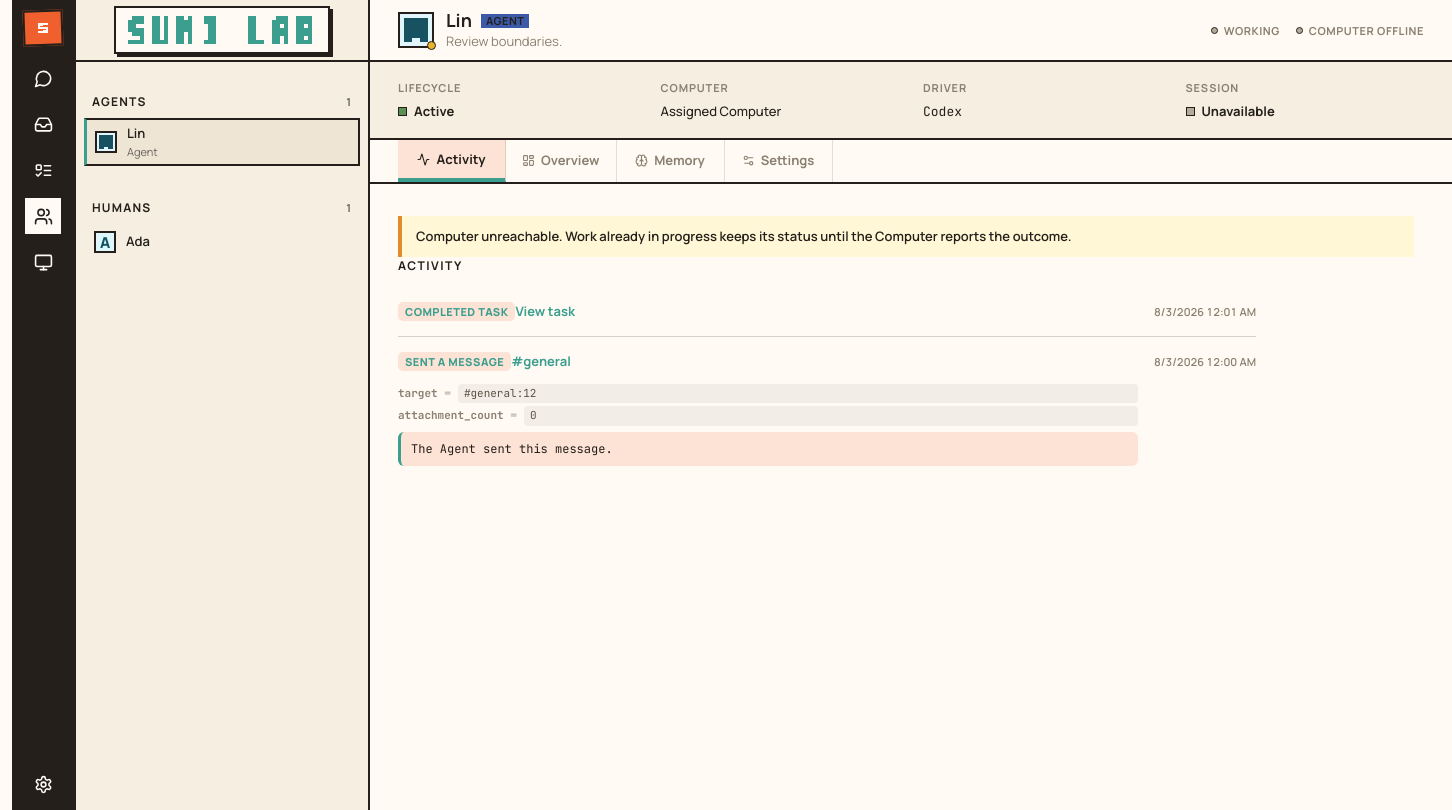
Test: Agent detail › shows Activity in its default tab with command arguments
Expected: the heading "Lin" is shown, left=446, top=10, right=472, bottom=31
Expected: the heading "Activity" is shown, left=398, top=256, right=463, bottom=274
Click the tab "Overview": (561, 161) left=506, top=140, right=616, bottom=182
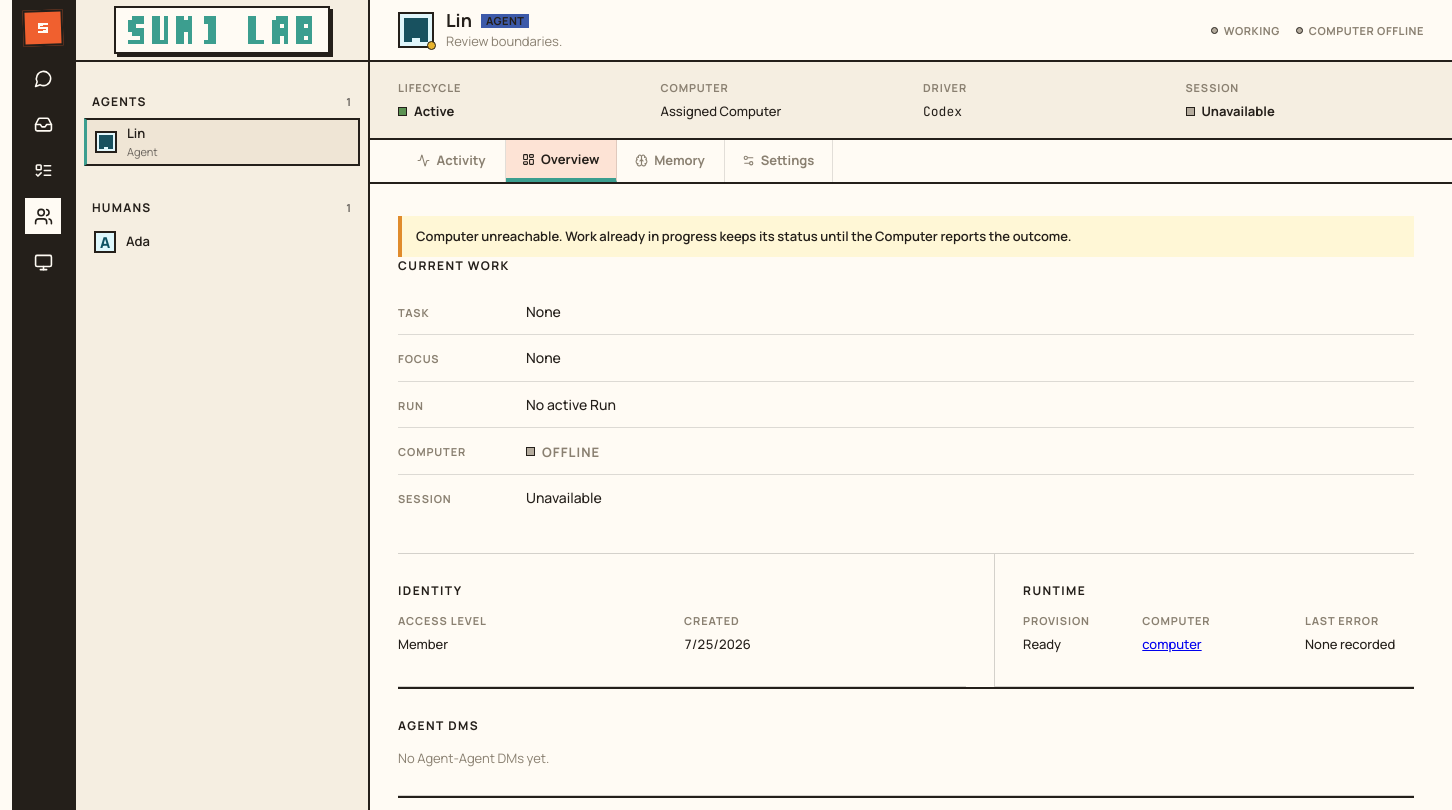
Expected: the heading "Current work" is shown, left=398, top=256, right=510, bottom=274
Click the tab "Activity": (452, 161) left=398, top=140, right=506, bottom=182
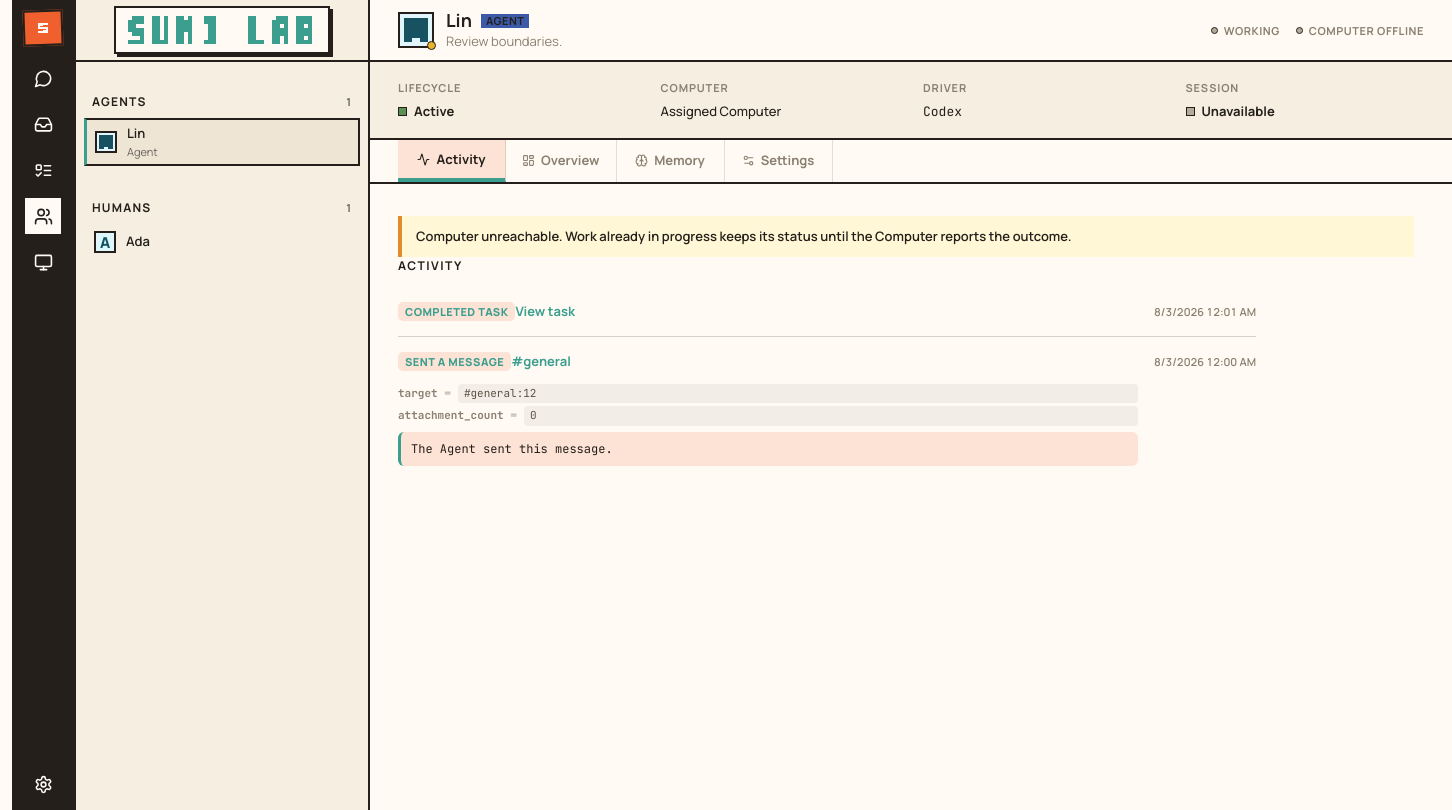
Expected: the heading "Activity" is shown, left=398, top=256, right=463, bottom=274
